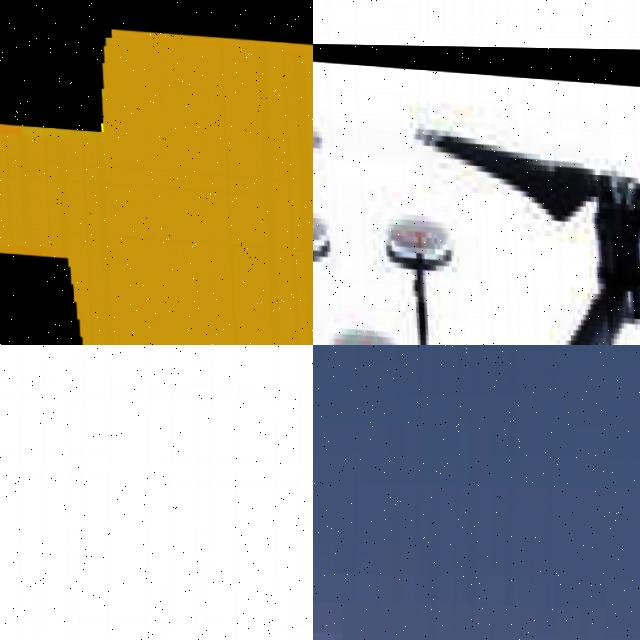drone: (0, 0, 313, 345), (313, 38, 640, 345)
